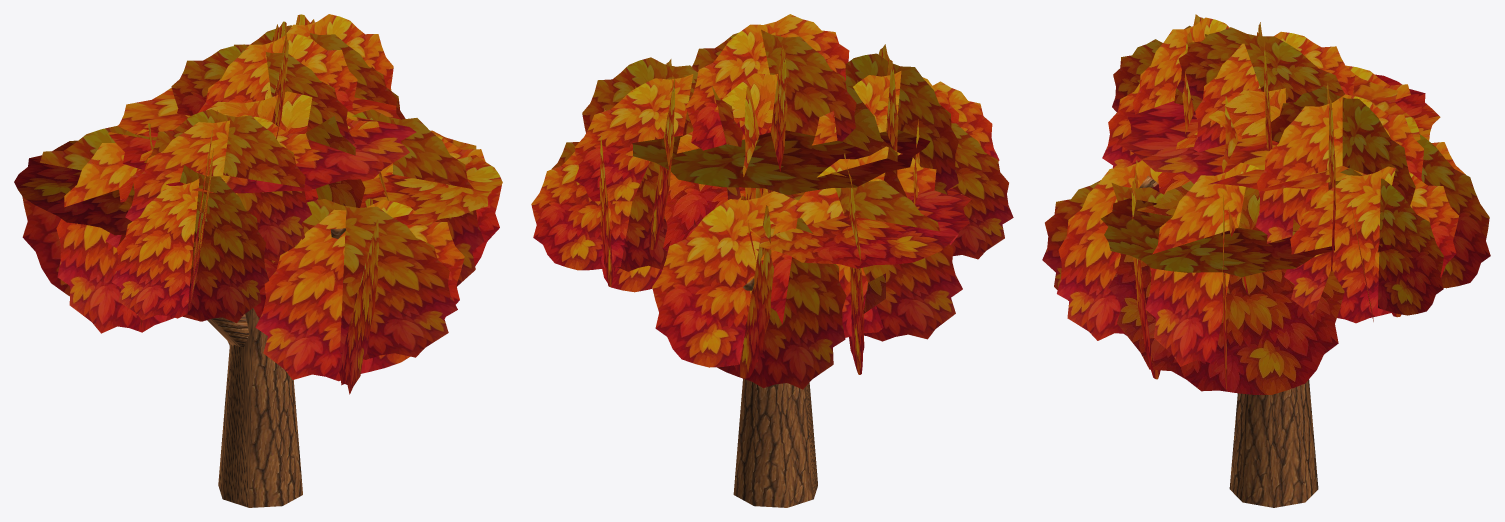
The model's file is ptree_autumn_round.glb.
3 views of the same model, side by side, from view 1: azimuth 30°, elevation 25°; view 2: azimuth 150°, elevation 25°; view 3: azimuth 270°, elevation 25° (orthographic).
Parts seen in each view (by area): view 1: leaf, woodBark; view 2: leaf, woodBark; view 3: leaf, woodBark.
Boxes of the visible parts, <box> form: leaf: <box>14,14,502,394</box>; woodBark: <box>207,228,345,507</box>; leaf: <box>531,14,1013,389</box>; woodBark: <box>733,278,817,507</box>; leaf: <box>1042,14,1490,394</box>; woodBark: <box>1139,175,1318,507</box>.
Bounding box in the file's own units: 1.1 × 1.16 × 1.01.
Materials: 2 (2 with a texture image).
